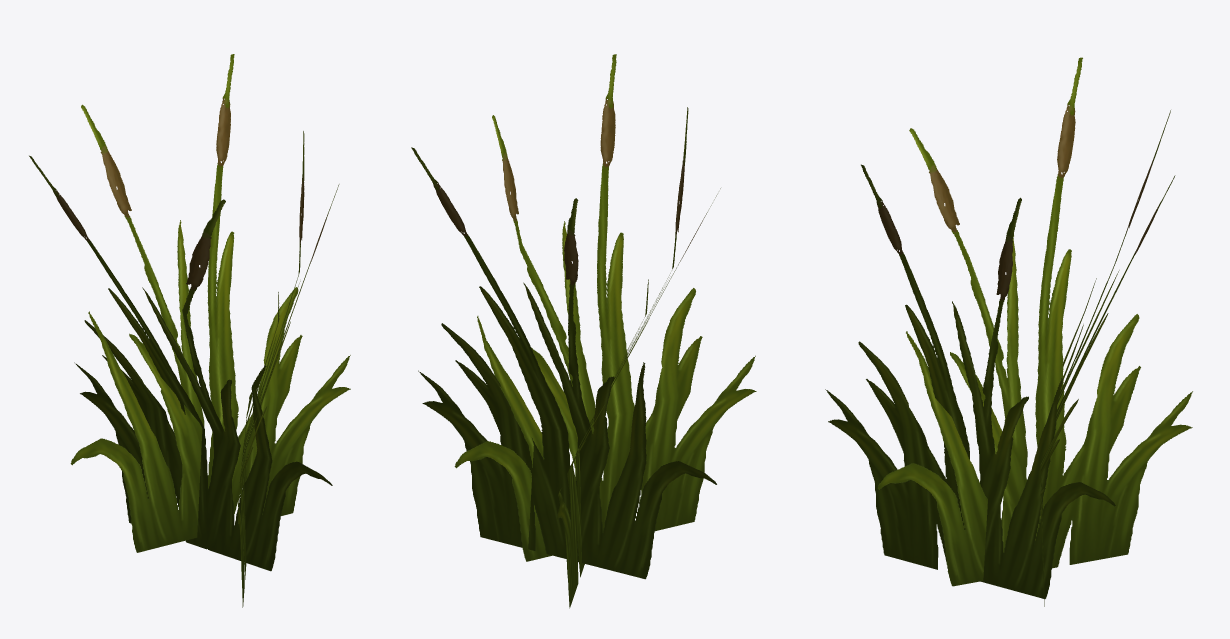
Rendered from reeds_small.fbx.
3 views of the same model, side by side, from view 1: azimuth 30°, elevation 25°; view 2: azimuth 150°, elevation 25°; view 3: azimuth 270°, elevation 25° (orthographic). The views are drawn at different scales.
Parts seen in each view (by area): view 1: reeds_small; view 2: reeds_small; view 3: reeds_small.
Boxes of the visible parts, x1,y1,x2,y2 form: reeds_small: [29, 54, 350, 607]; reeds_small: [411, 54, 756, 608]; reeds_small: [825, 57, 1192, 606].
Bounding box in the file's own units: 2.85 × 3.7 × 2.83.
